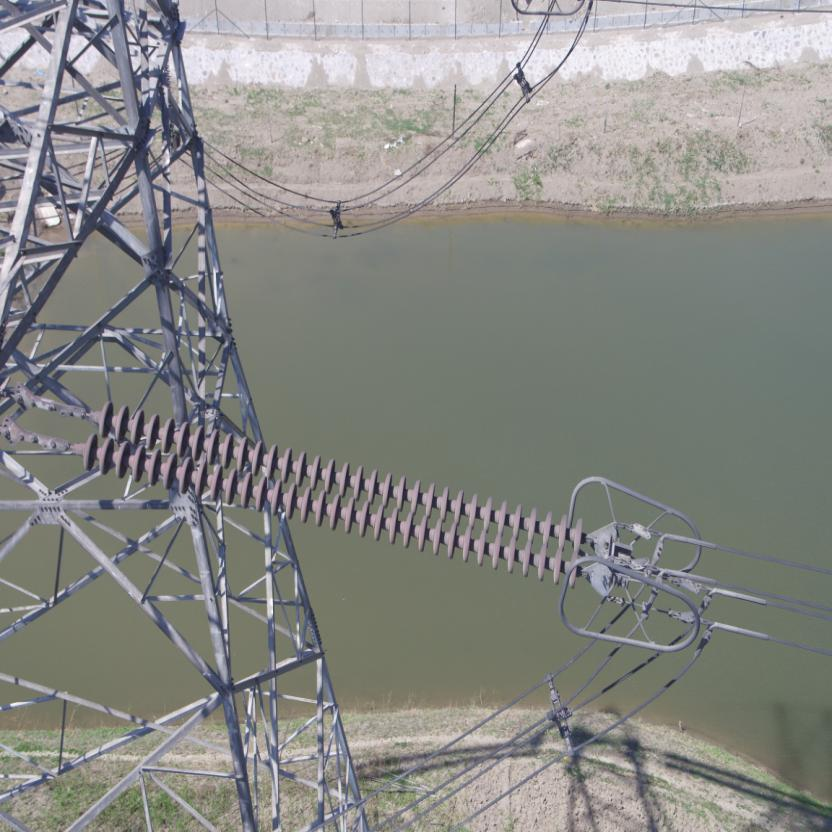insulator: (47, 395, 601, 590)
